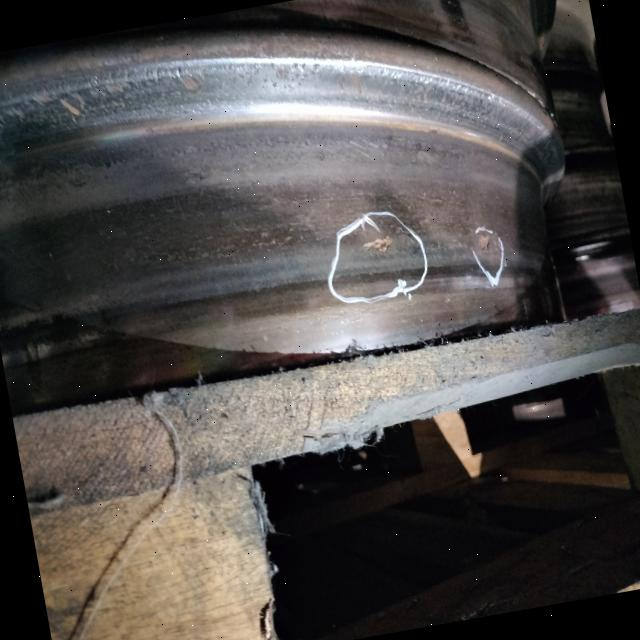Blue hole: (352, 230, 406, 267), (475, 232, 498, 258)
